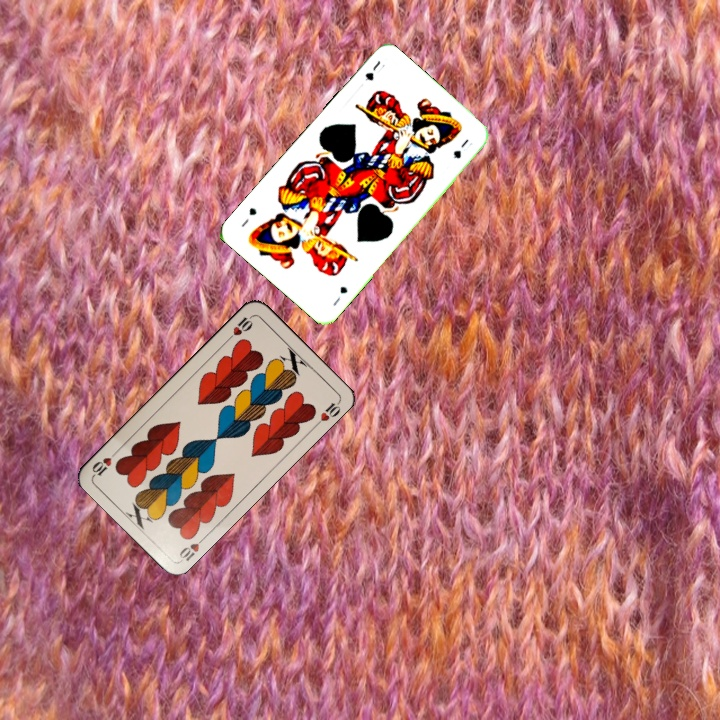GU: (361, 56, 388, 84), (329, 282, 350, 309)
H10: (175, 532, 209, 564), (223, 312, 256, 344)
